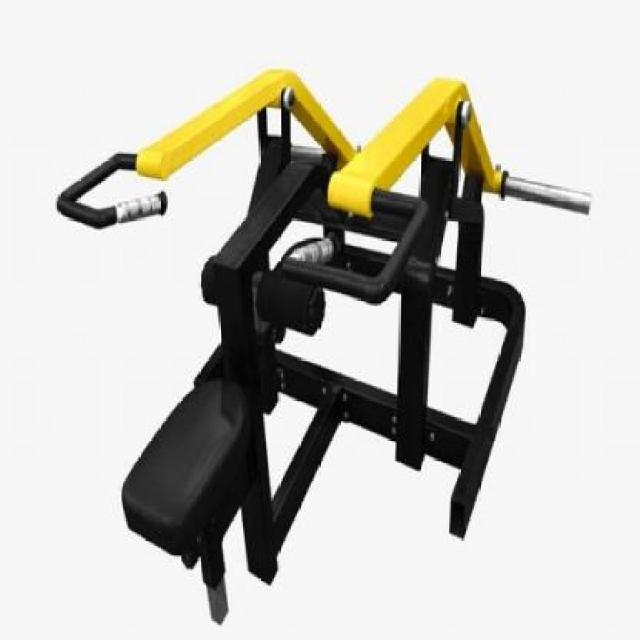seated dip machine: (57, 66, 594, 625)
